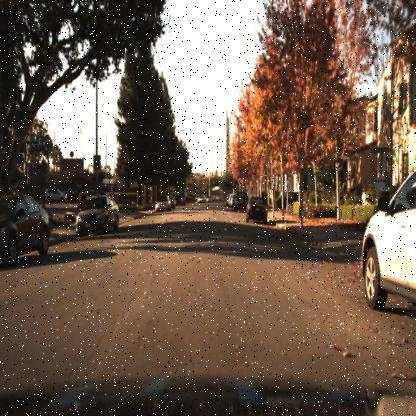car: (358, 163, 416, 319), (1, 190, 52, 266), (69, 187, 126, 245), (244, 192, 274, 226), (40, 186, 72, 211), (42, 185, 68, 208), (233, 188, 248, 216), (154, 191, 173, 213), (173, 192, 185, 209)
